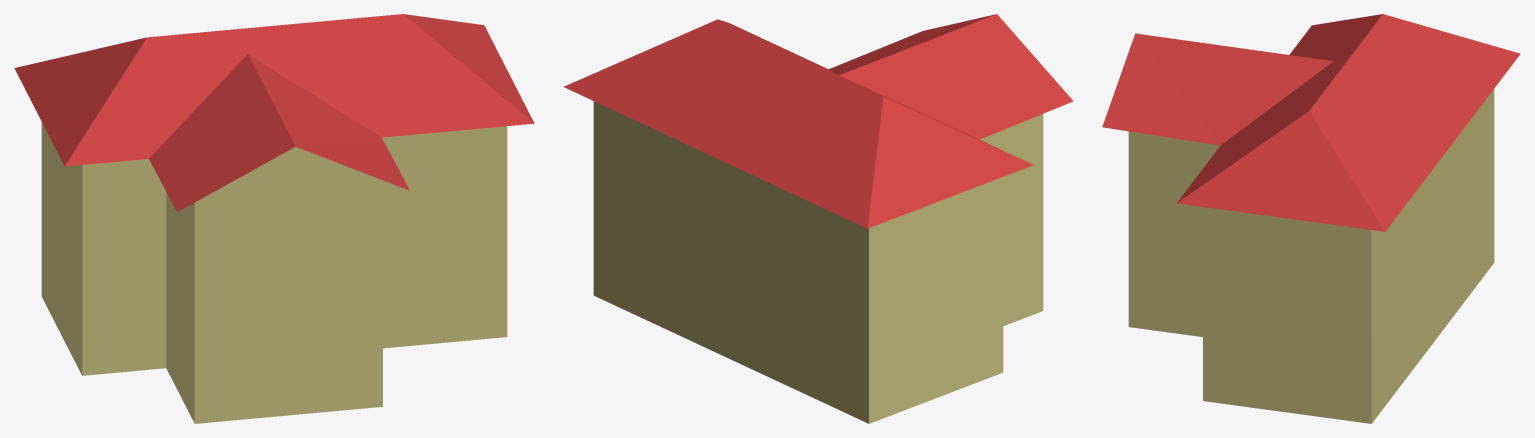
3 views of the same model, side by side, from view 1: azimuth 30°, elevation 25°; view 2: azimuth 150°, elevation 25°; view 3: azimuth 270°, elevation 25° (orthographic). The views are drawn at different scales.
Visible parts, largest first — view 1: group_5, group_10, group_7, group_3, group_9, group_4; view 2: group_10, group_7, group_3, group_5, group_9, group_4; view 3: group_10, group_7, group_3, group_5, group_9, group_4.
Boxes of the visible parts, x1,y1,x2,y2 form: group_5: [166, 146, 382, 423]; group_10: [41, 122, 507, 375]; group_7: [14, 14, 534, 166]; group_3: [149, 54, 409, 211]; group_9: [15, 24, 533, 163]; group_4: [149, 124, 408, 211]; group_10: [593, 66, 1003, 423]; group_7: [563, 19, 1033, 228]; group_3: [829, 14, 1073, 139]; group_5: [980, 114, 1043, 325]; group_9: [565, 23, 1030, 227]; group_4: [831, 14, 1071, 138]; group_10: [1203, 89, 1494, 423]; group_7: [1177, 14, 1520, 231]; group_3: [1102, 33, 1333, 145]; group_5: [1128, 131, 1219, 336]; group_9: [1176, 23, 1519, 230]; group_4: [1103, 34, 1239, 144].
Bounding box in the file's own units: 17.39 × 14.9 × 10.57.
